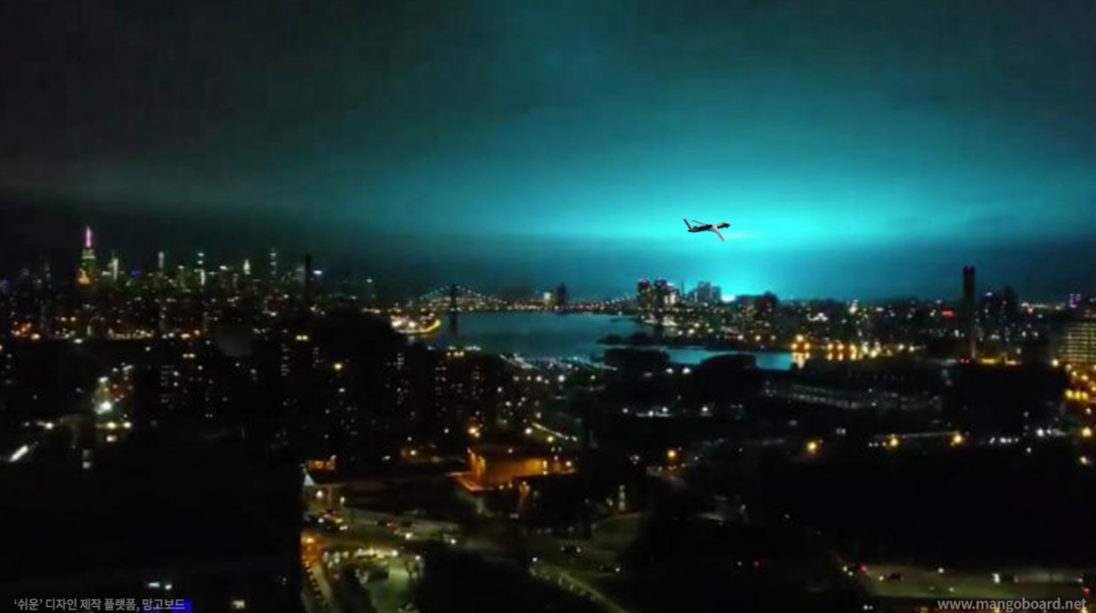military drone: (682, 217, 731, 241)
